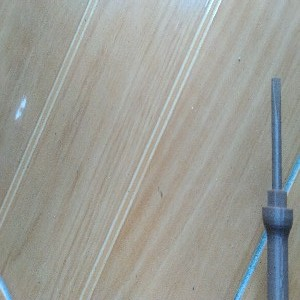obeng: (261, 77, 294, 300)
